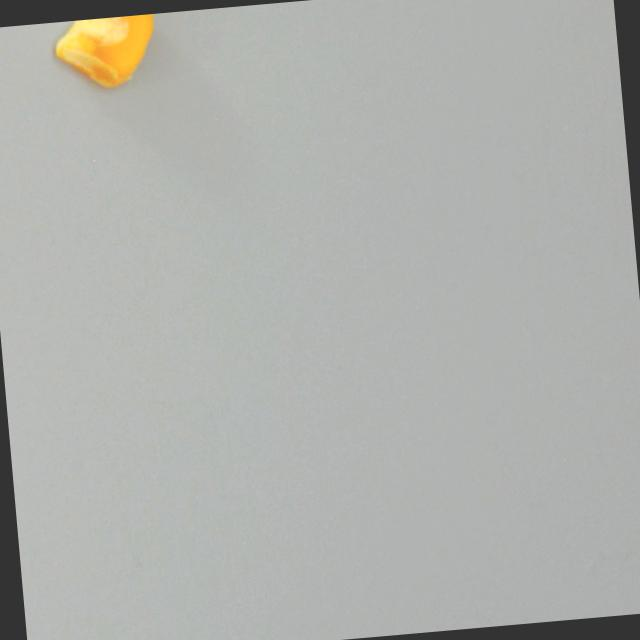dañado: (43, 13, 163, 99)
